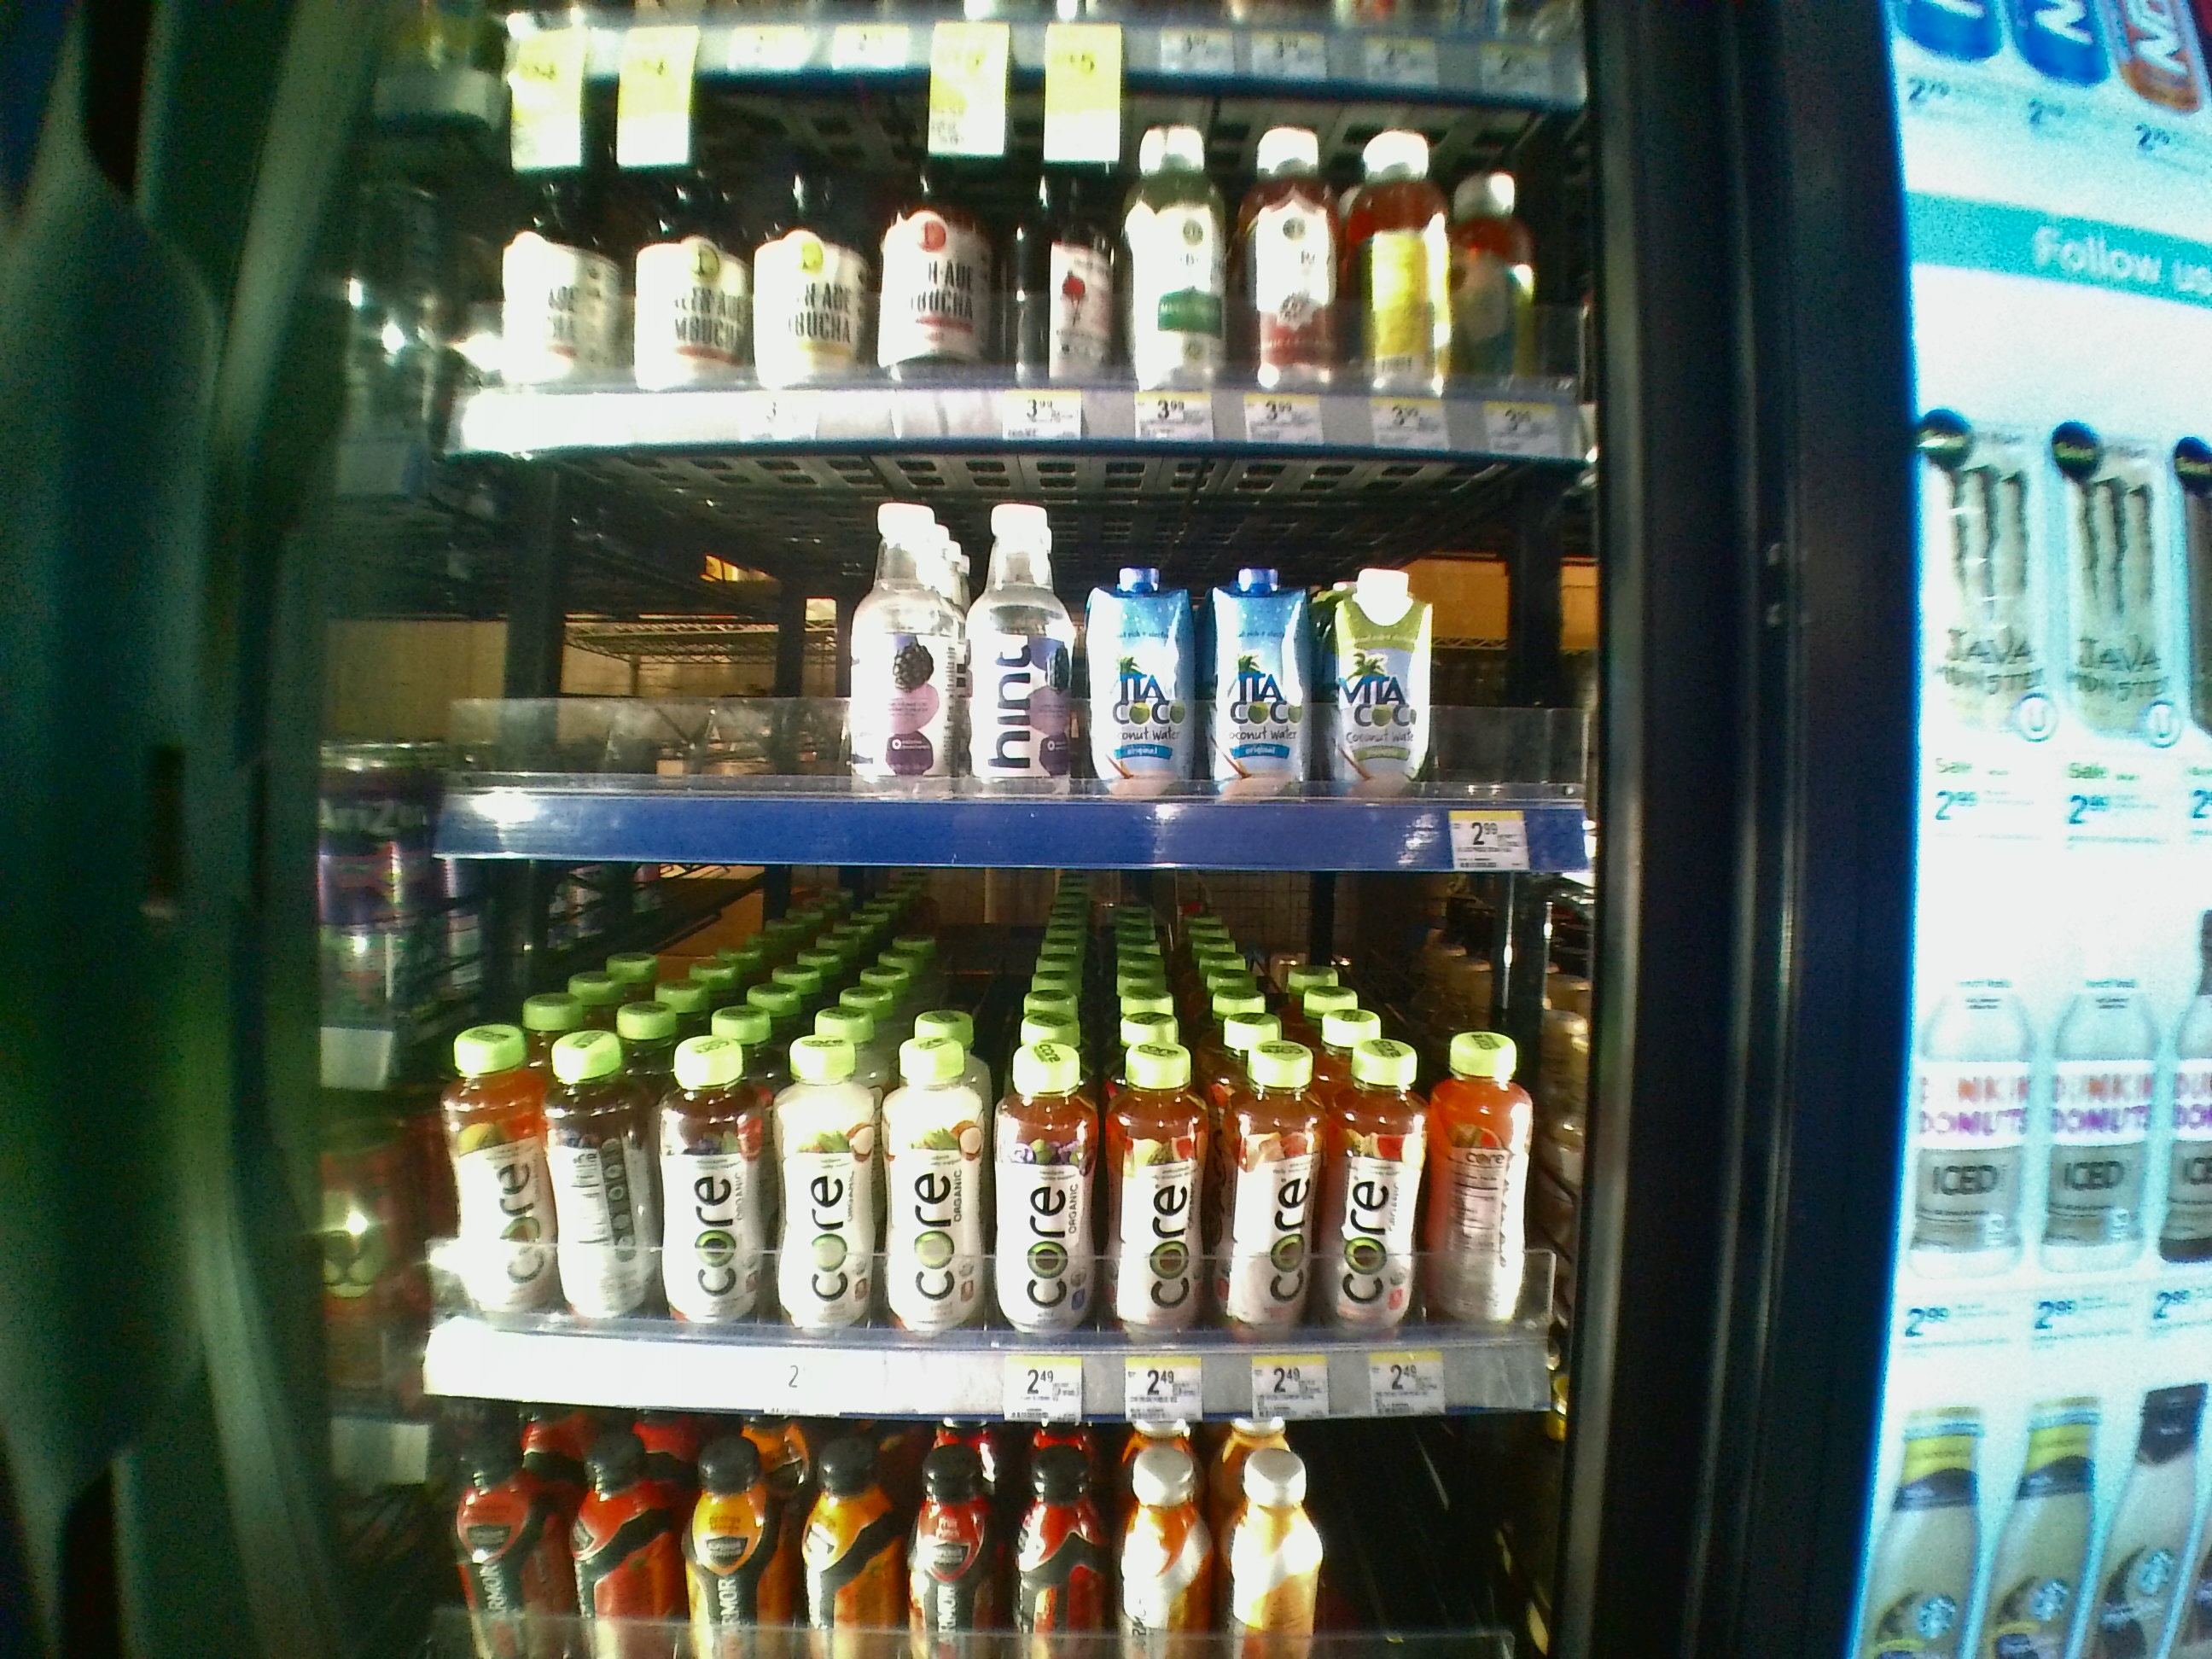shelf: (317, 849, 1627, 1417), (345, 430, 1625, 871)
